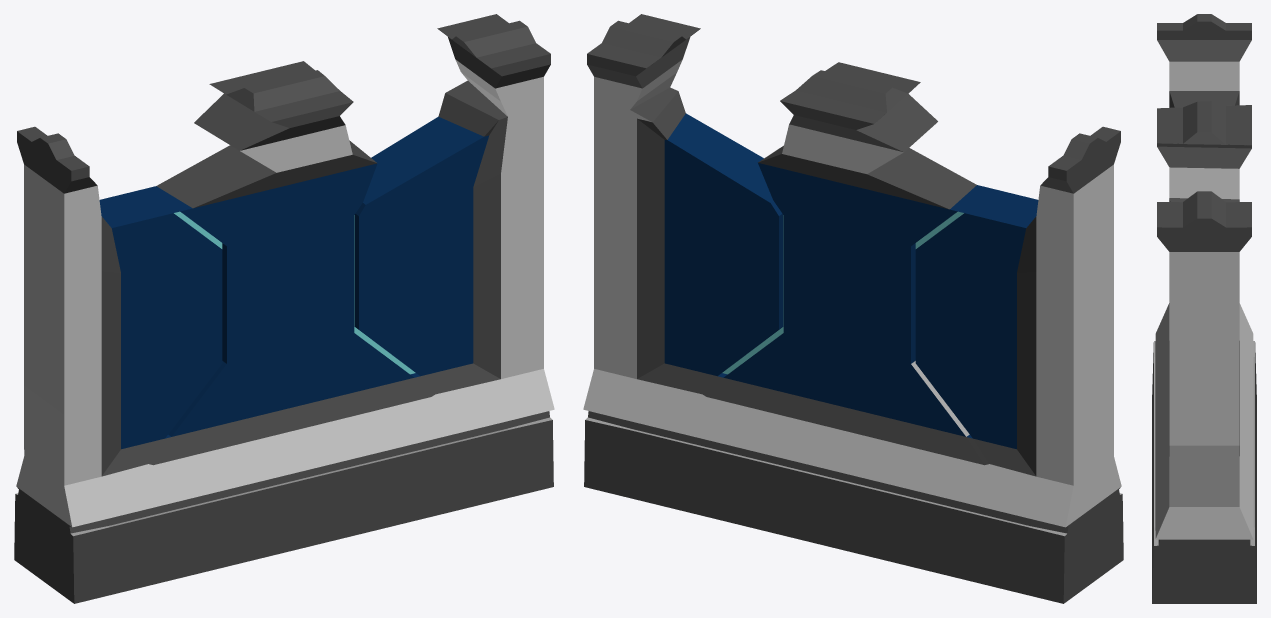
Rendered from Outer_Wall_Destroyed_A.fbx.
3 views of the same model, side by side, from view 1: azimuth 30°, elevation 25°; view 2: azimuth 150°, elevation 25°; view 3: azimuth 270°, elevation 25° (orthographic). The views are drawn at different scales.
Parts seen in each view (by area): view 1: Outer_Wall_Destroyed_A; view 2: Outer_Wall_Destroyed_A; view 3: Outer_Wall_Destroyed_A.
Part boxes in pixels (<box>): Outer_Wall_Destroyed_A: <box>14,14,554,603</box>; Outer_Wall_Destroyed_A: <box>583,14,1123,603</box>; Outer_Wall_Destroyed_A: <box>1152,14,1256,603</box>.
Size of the model in its own units: 5.86 by 1.26 by 5.12.
